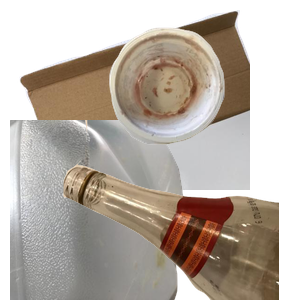cardboard: (16, 10, 256, 190)
glass: (60, 120, 300, 300)
plastic: (10, 120, 190, 300)
trash: (107, 25, 300, 162)
